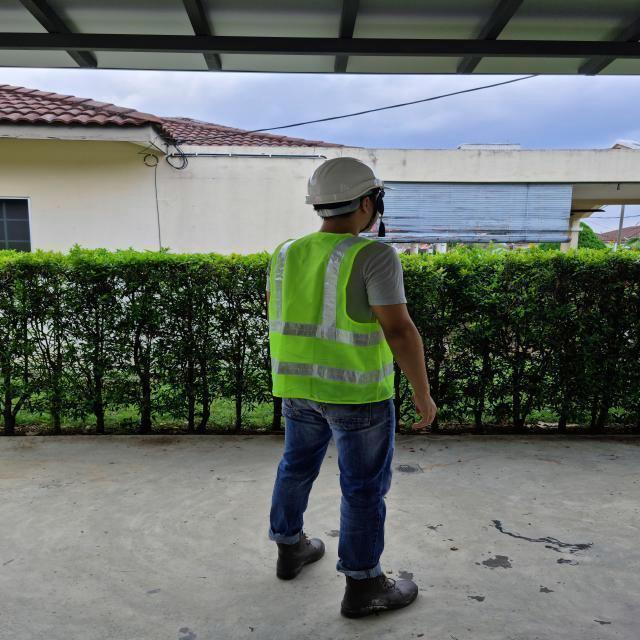vest: (266, 228, 401, 407)
